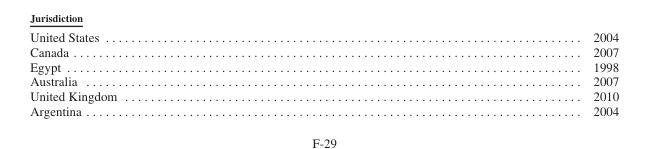table: (29, 29, 618, 118)
table column: (29, 29, 354, 118), (354, 29, 618, 118)
table row: (29, 43, 618, 58), (29, 58, 618, 73), (29, 73, 618, 88), (29, 88, 618, 103), (29, 103, 618, 118), (29, 29, 618, 43)
